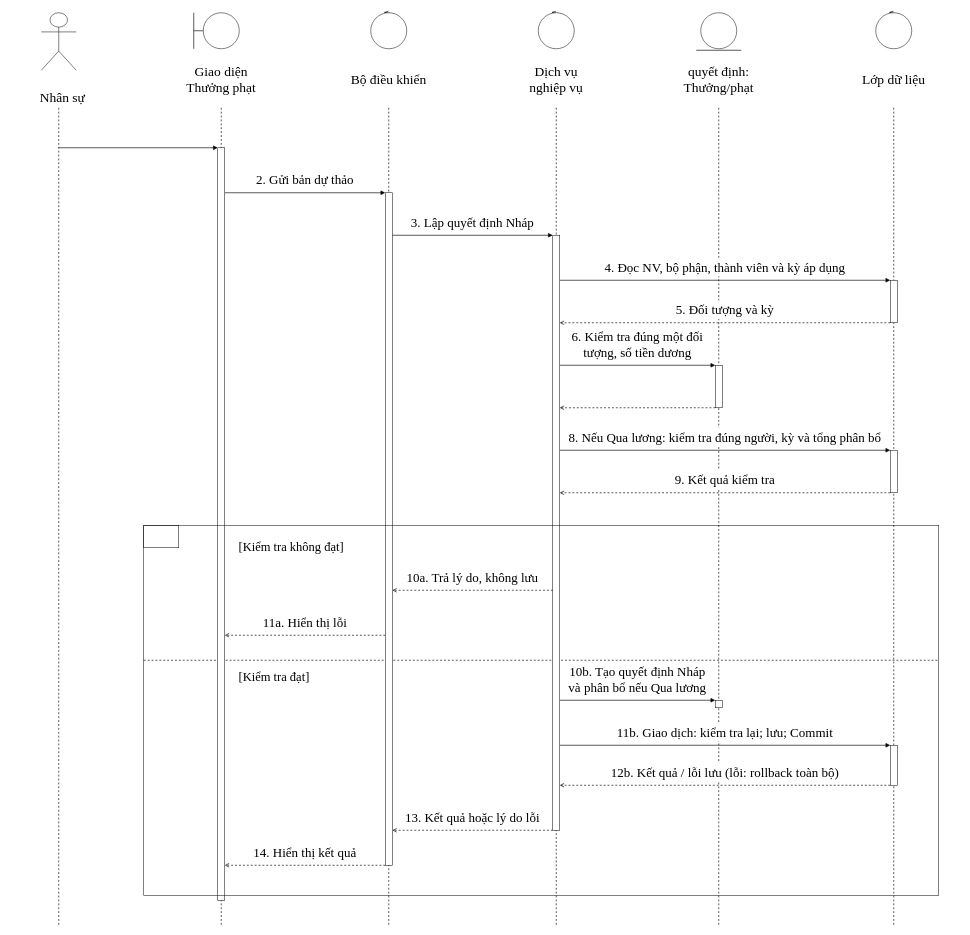
Some shapes in this 970 by 935 pixel diagram are drawn without their labels. Here are the shapes that lost their labels. From the top down, the centre of each, then its label:
At pixel 138 127: "1. Chọn cá nhân / tập thể, nhập tiền và cách thực hiện".
At pixel 637 394: "7. Dữ liệu quyết định".
At pixel 161 536: "alt".
